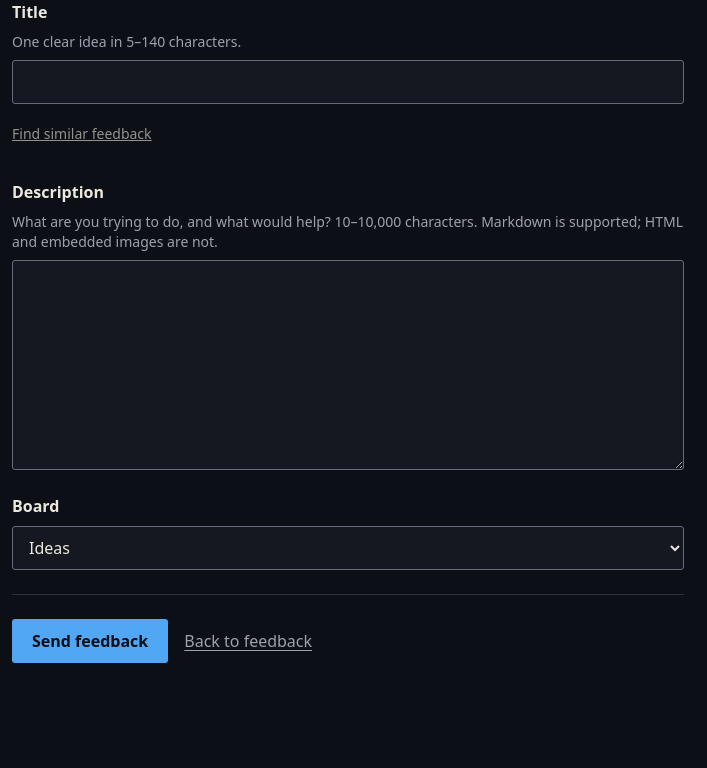
Test: keeps the draft after quota failure and offers recovery
The width and height of the screenshot is (707, 768).
Step 1. Type "Export reports" into the field labelled "Title" → (348, 82), box [12,60,684,104]
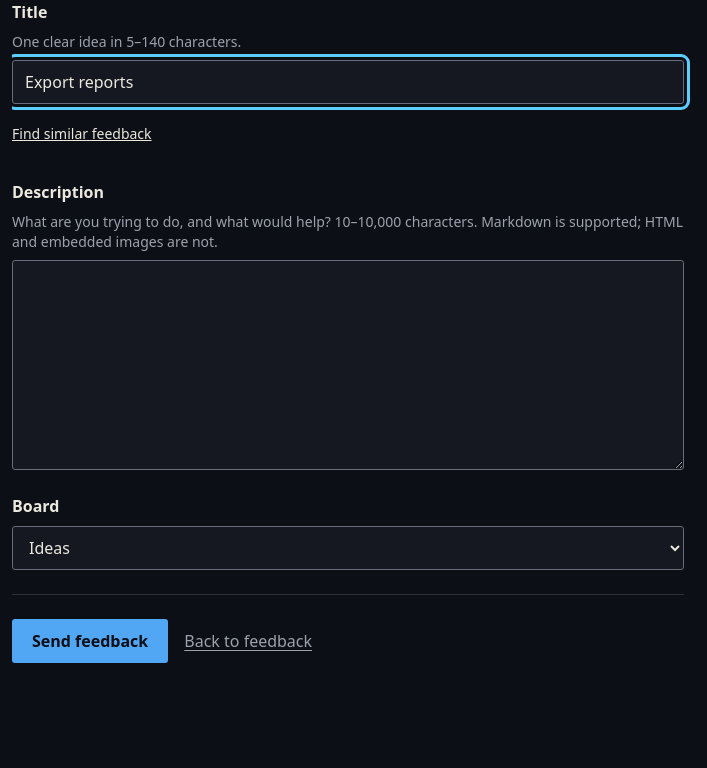
Step 2. Type "An offline report would help our team." into the text box labelled "Description" → (348, 365), box [12,260,684,470]
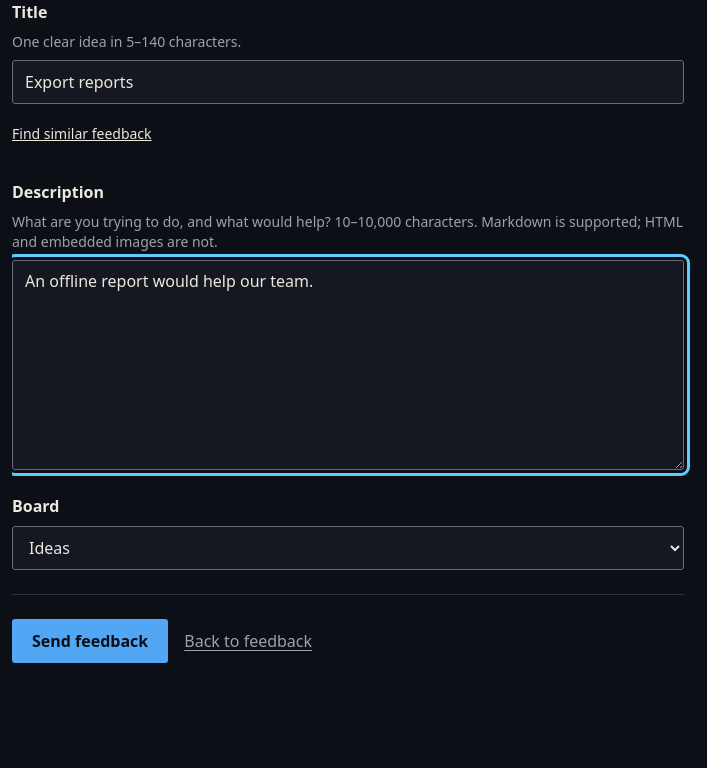
Step 3. Click the button "Send feedback" → (90, 641), box [12,619,168,663]
(page scrolled)
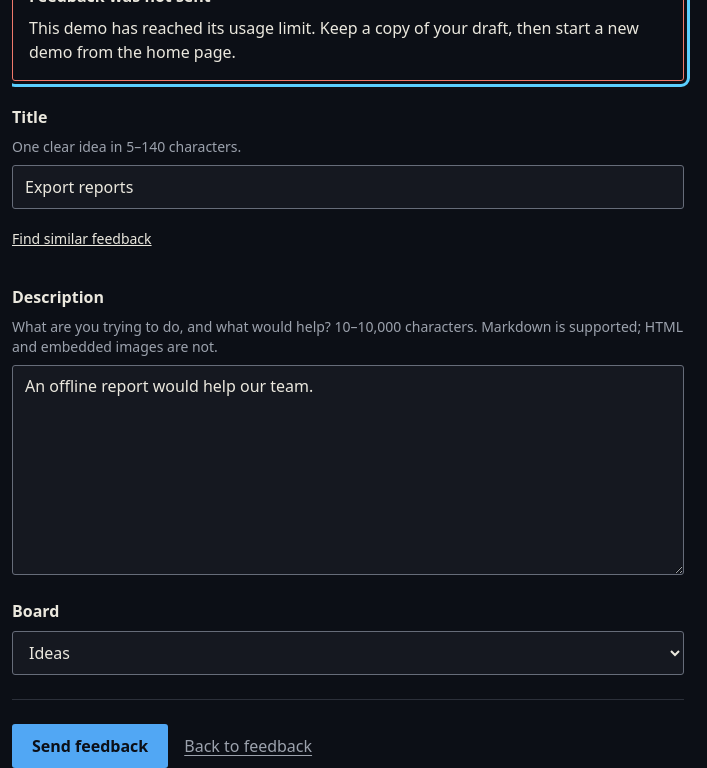
Check: the button "Send feedback" is enabled, box [12,724,168,767]
Check: the message shows "usage limit", box [29,17,639,63]
